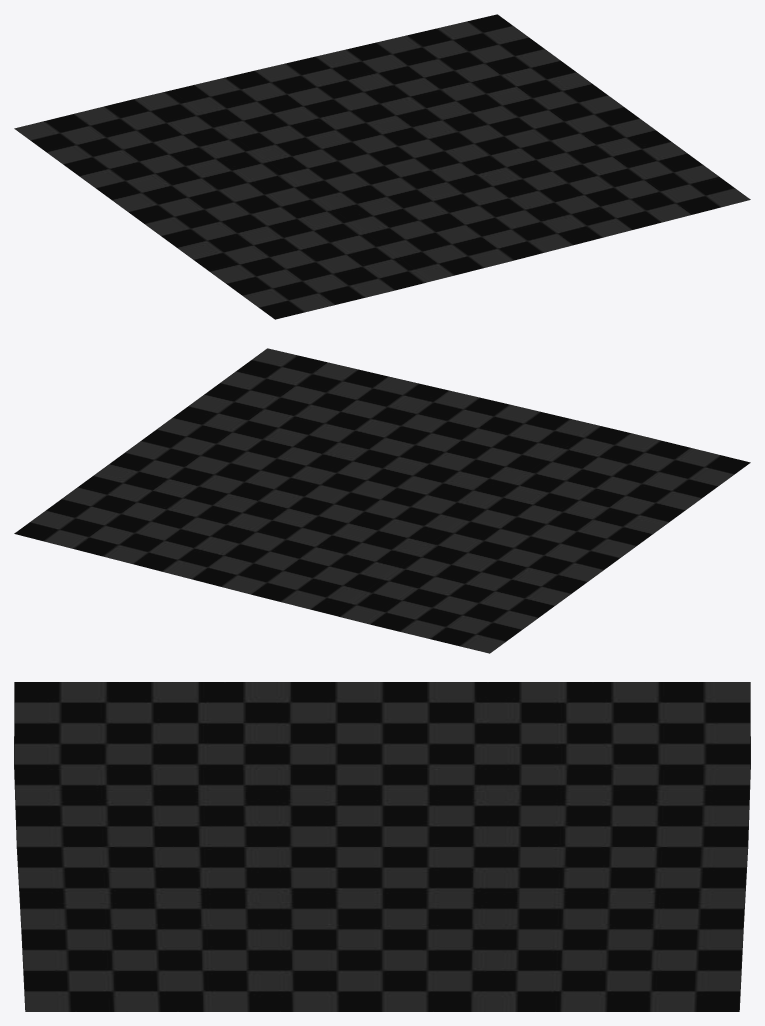
File: page_tranparent.fbx
The picture shows the model from 3 angles, top to bottom: view 1: azimuth 30°, elevation 25°; view 2: azimuth 150°, elevation 25°; view 3: azimuth 270°, elevation 25°; orthographic projection. The views are drawn at different scales.
Parts seen in each view (by area): view 1: page_01.001; view 2: page_01.001; view 3: page_01.001.
Boxes of the visible parts, x1=… form: page_01.001: x1=14, y1=14, x2=750, y2=319; page_01.001: x1=14, y1=348, x2=750, y2=653; page_01.001: x1=14, y1=682, x2=750, y2=1011.
Size of the model in its own units: 29.51 by 8e-13 by 27.86.
